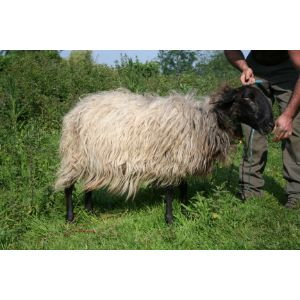sheep: (55, 83, 275, 225)
